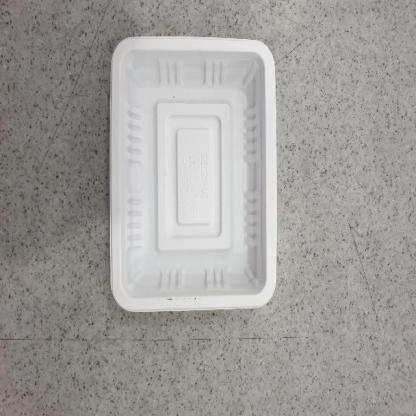Glass Cup: (107, 36, 278, 312), (110, 36, 277, 311)
